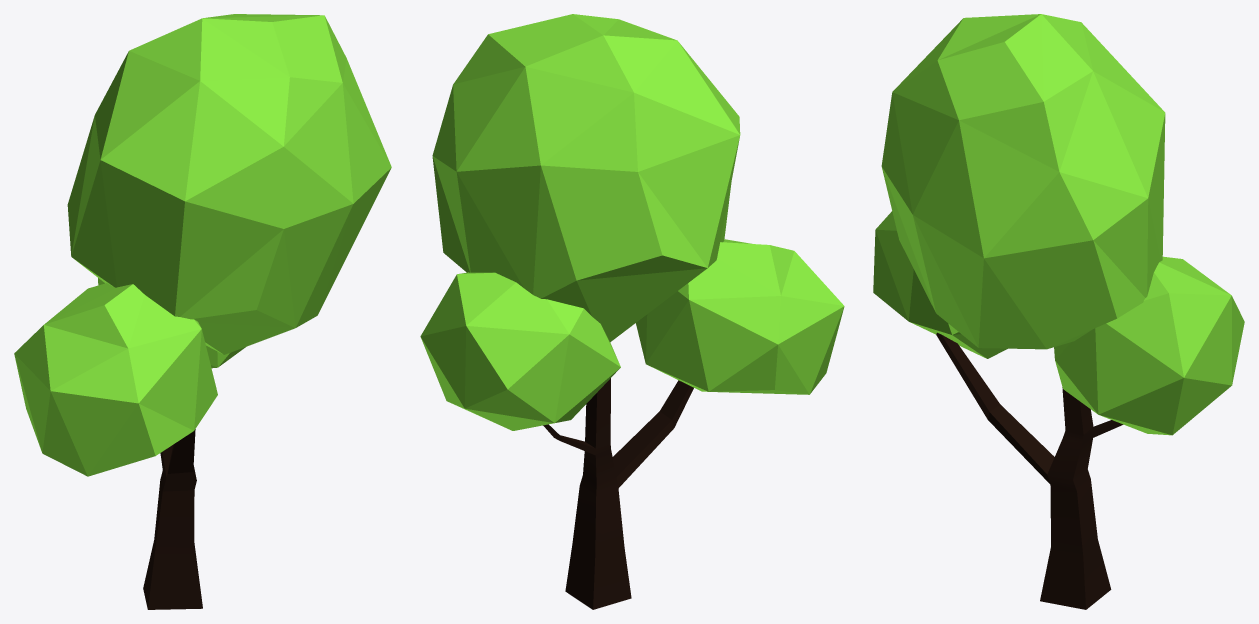
The model's file is tree2.FBX.
3 renders of one model, left to right at view 1: azimuth 30°, elevation 25°; view 2: azimuth 150°, elevation 25°; view 3: azimuth 270°, elevation 25°, orthographic. The views are drawn at different scales.
Visible parts, largest first — view 1: GeoSphere003, GeoSphere001, Box003; view 2: GeoSphere003, GeoSphere001, GeoSphere002, Box003; view 3: GeoSphere003, GeoSphere002, Box003, GeoSphere001.
Part boxes in pixels (bbox=[...]): GeoSphere003: bbox=[67, 14, 391, 354]; GeoSphere001: bbox=[14, 283, 217, 476]; Box003: bbox=[143, 429, 202, 609]; GeoSphere003: bbox=[432, 14, 740, 342]; GeoSphere001: bbox=[636, 239, 844, 394]; GeoSphere002: bbox=[420, 272, 620, 430]; Box003: bbox=[543, 378, 693, 609]; GeoSphere003: bbox=[881, 14, 1165, 349]; GeoSphere002: bbox=[1054, 256, 1244, 435]; Box003: bbox=[936, 332, 1123, 609]; GeoSphere001: bbox=[873, 211, 1007, 358].
Bounding box in the file's own units: 13.87 × 21.31 × 12.22.
